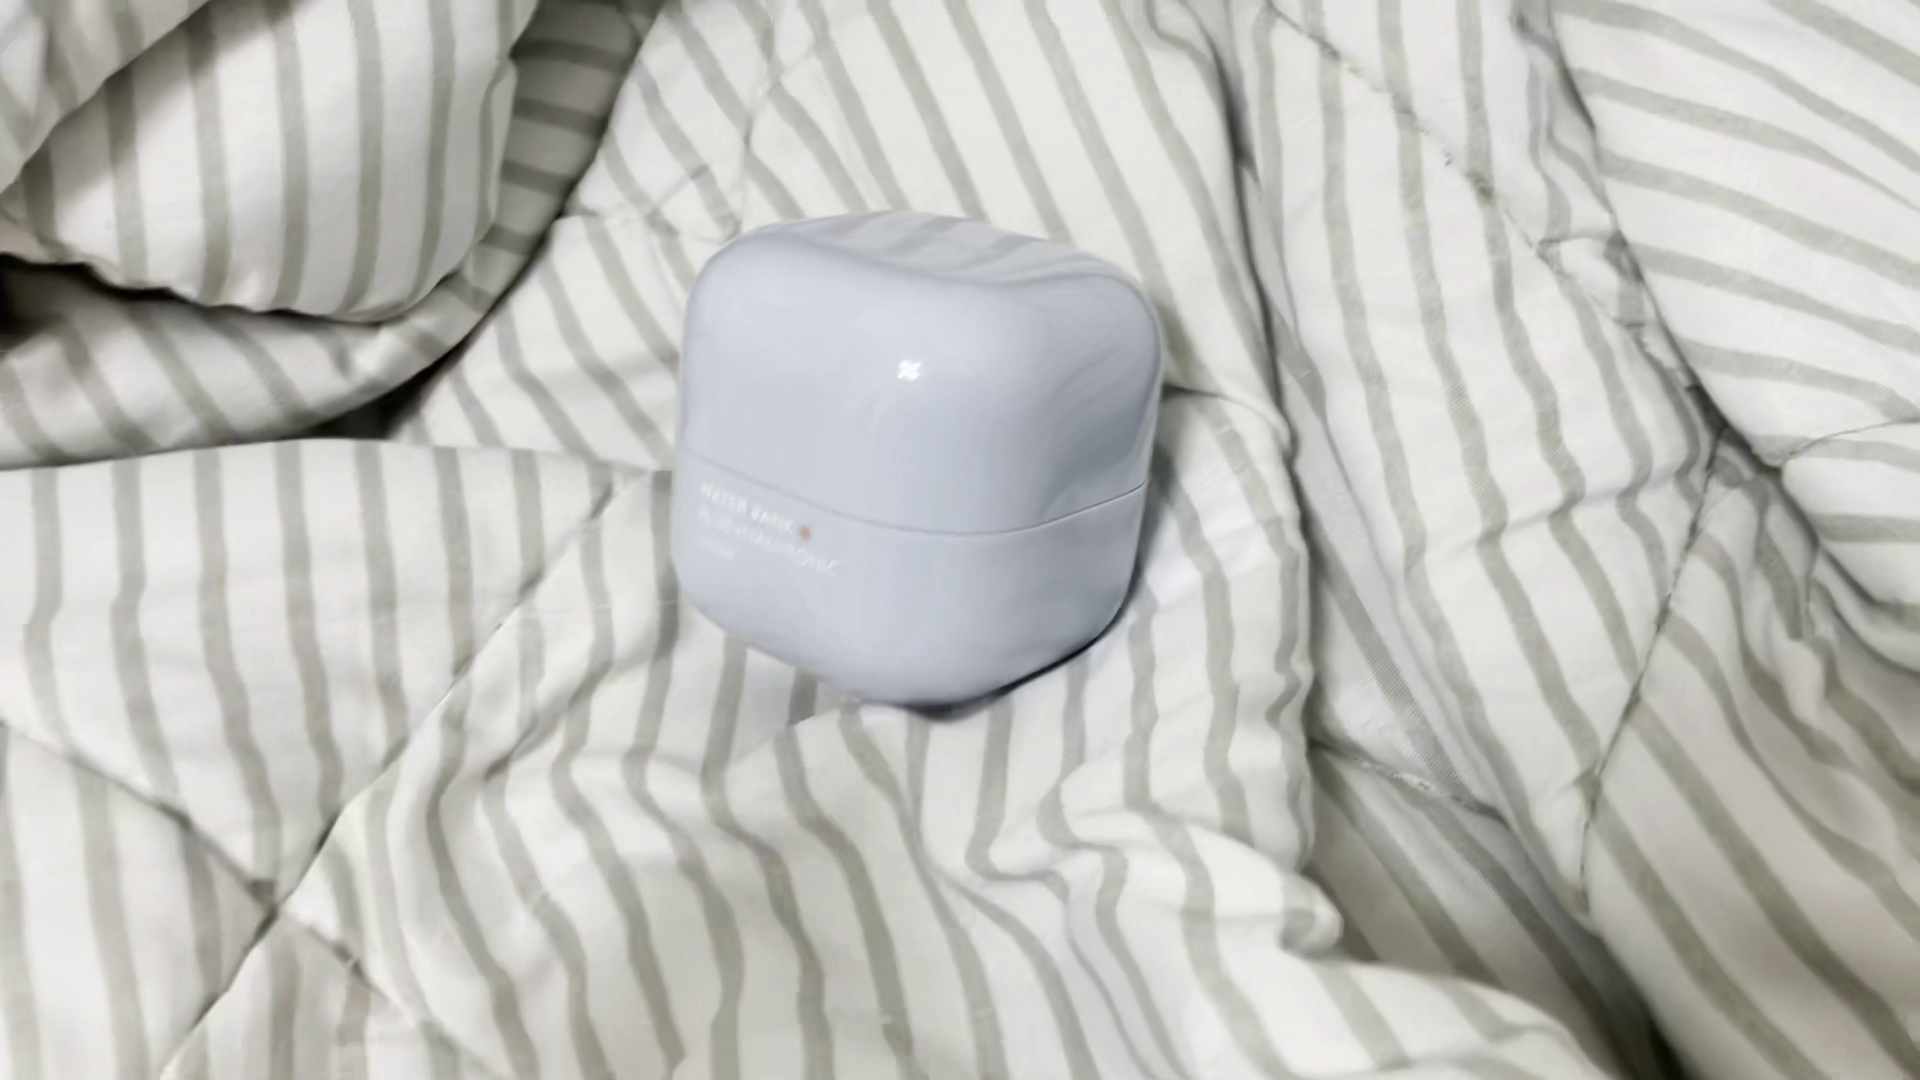cream: (669, 203, 1159, 702)
